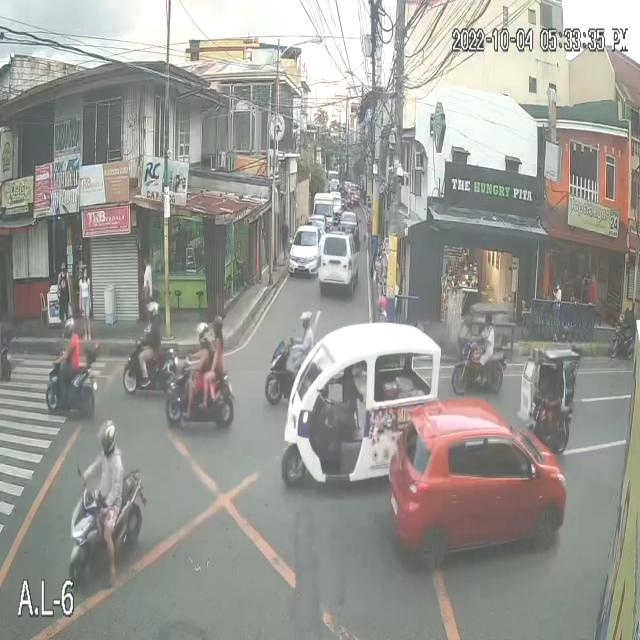Full-Faced: (97, 420, 117, 457), (296, 306, 313, 334), (66, 315, 77, 336)
Half-Faced: (141, 300, 166, 325), (194, 324, 213, 349)
Not-Wearing-Helmet: (210, 312, 224, 338)
